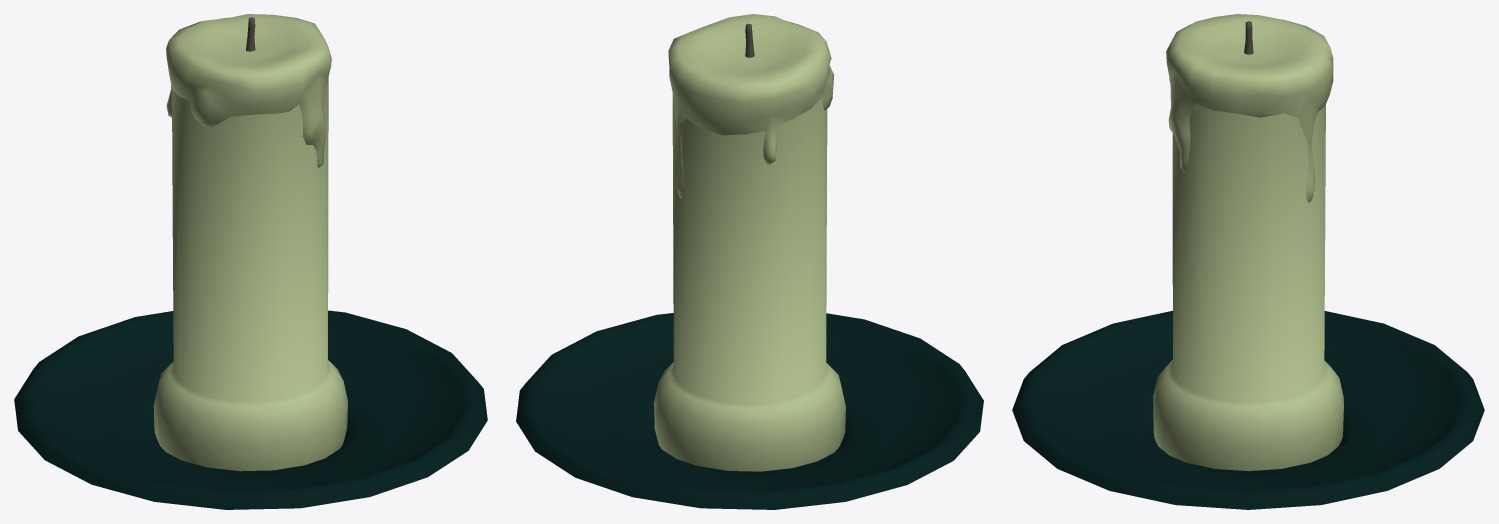
File: SE_122_green_candle.glb
3 views of the same model, side by side, from view 1: azimuth 30°, elevation 25°; view 2: azimuth 150°, elevation 25°; view 3: azimuth 270°, elevation 25° (orthographic).
Visible parts, largest first — view 1: candle_body, plate, candle_molten; view 2: candle_body, plate, candle_molten; view 3: candle_body, plate, candle_molten.
Part boxes in pixels (<box>): candle_body: <box>153,17,347,471</box>; plate: <box>14,310,487,509</box>; candle_molten: <box>166,14,331,167</box>; candle_body: <box>654,24,845,471</box>; plate: <box>516,313,983,509</box>; candle_molten: <box>668,14,834,198</box>; candle_body: <box>1153,21,1343,471</box>; plate: <box>1012,310,1484,509</box>; candle_molten: <box>1166,14,1333,202</box>.
Bounding box in the file's own units: 0.7367 × 0.7496 × 0.7367.
